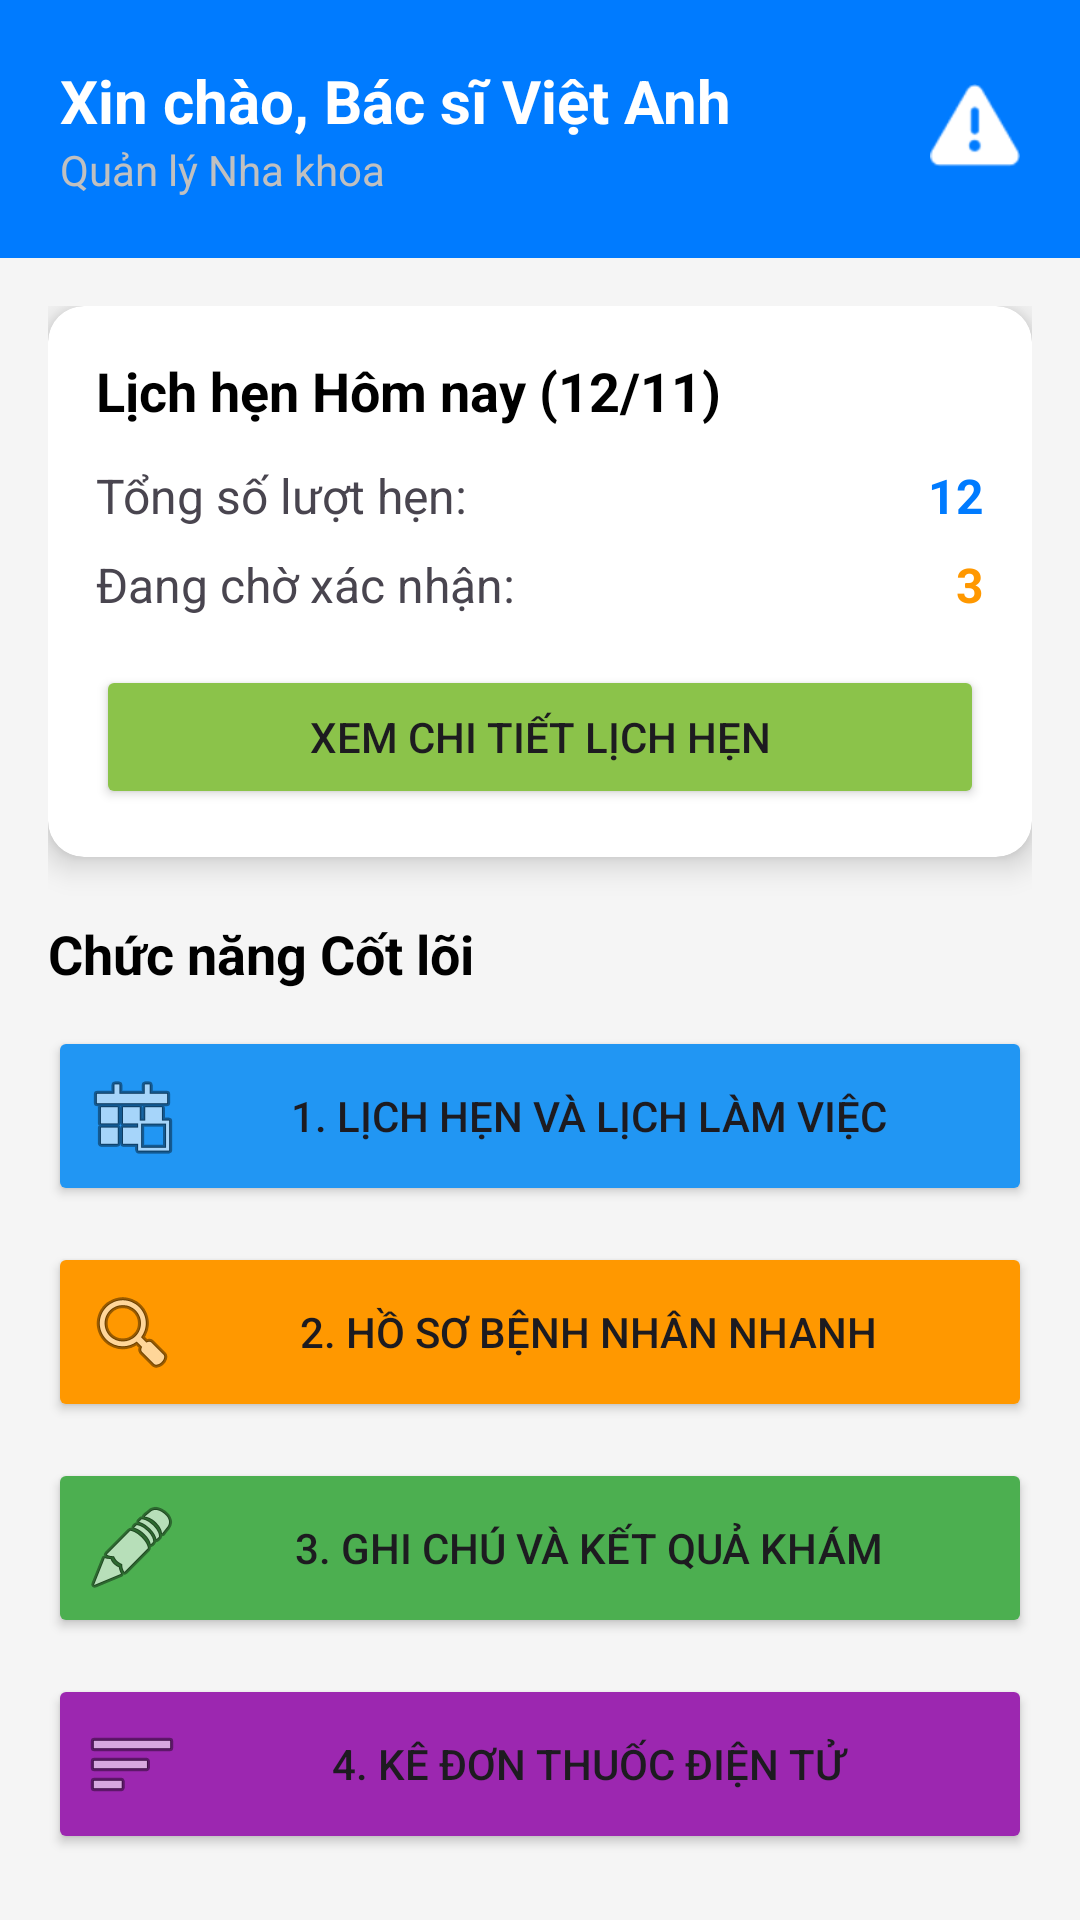

Screen size 1080 × 1920. Icon name, then its center in pixels as (x=x, y=y):
Thông báo: (x=975, y=125)
